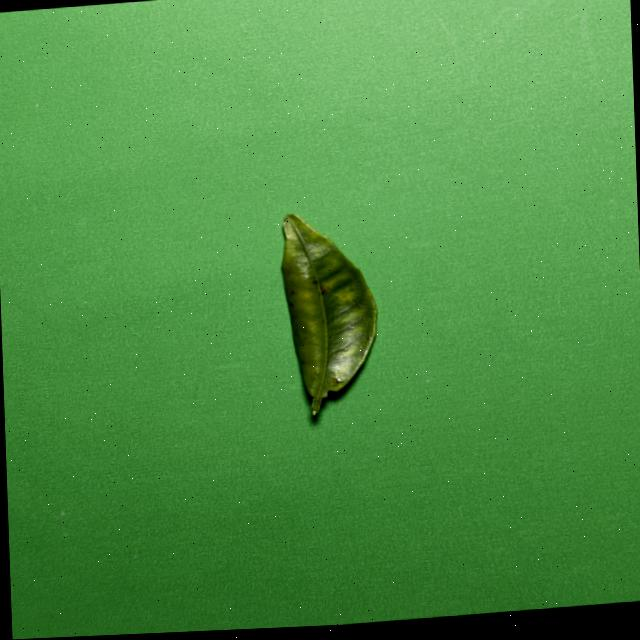greening: (280, 213, 375, 414)
